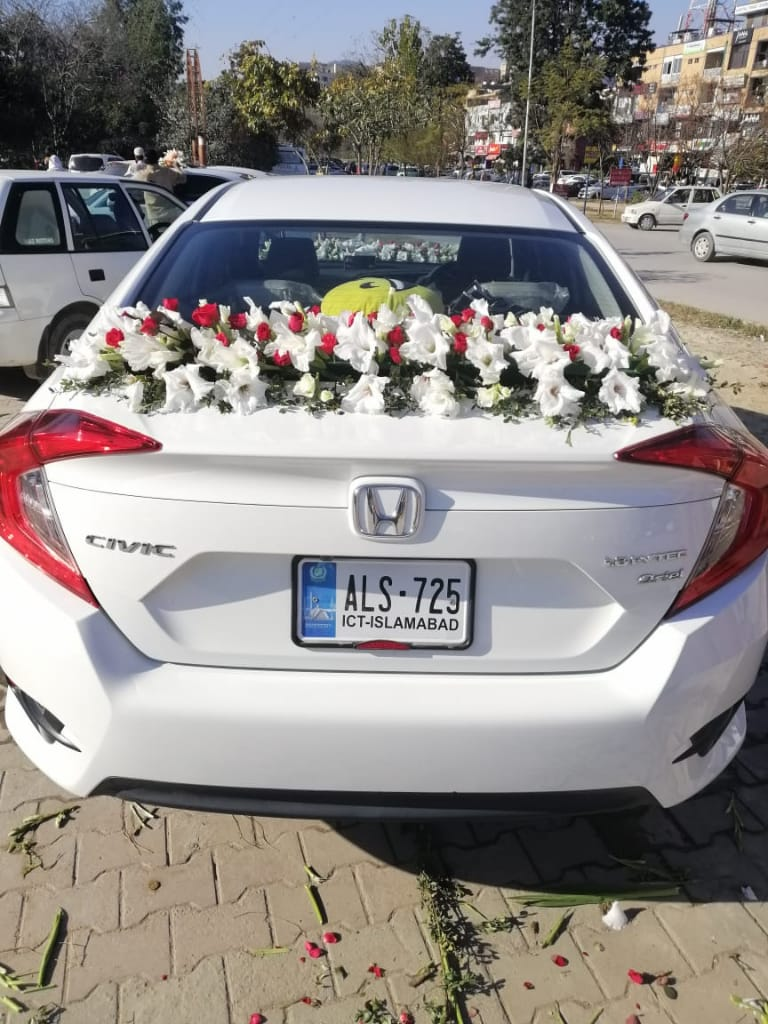plate: (286, 552, 480, 655)
